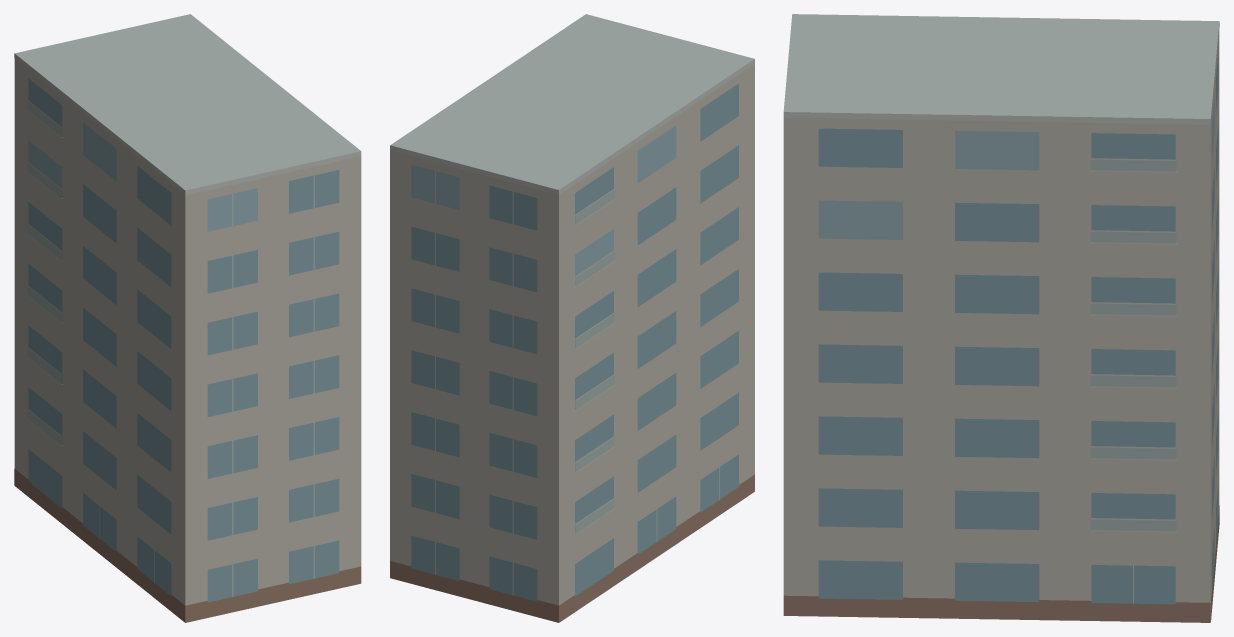
The model's file is survey-upis-32568814.glb.
The picture shows the model from 3 angles, left to right: view 1: azimuth 30°, elevation 25°; view 2: azimuth 150°, elevation 25°; view 3: azimuth 270°, elevation 25°; orthographic projection. The views are drawn at different scales.
Visible parts, largest first — view 1: survey-upis-32568814.tmp; view 2: survey-upis-32568814.tmp; view 3: survey-upis-32568814.tmp.
Part boxes in pixels (bbox=[...]): survey-upis-32568814.tmp: bbox=[14, 14, 361, 622]; survey-upis-32568814.tmp: bbox=[390, 14, 754, 622]; survey-upis-32568814.tmp: bbox=[783, 14, 1219, 622].
Size of the model in its own units: 9.56 by 21.35 by 16.75.
